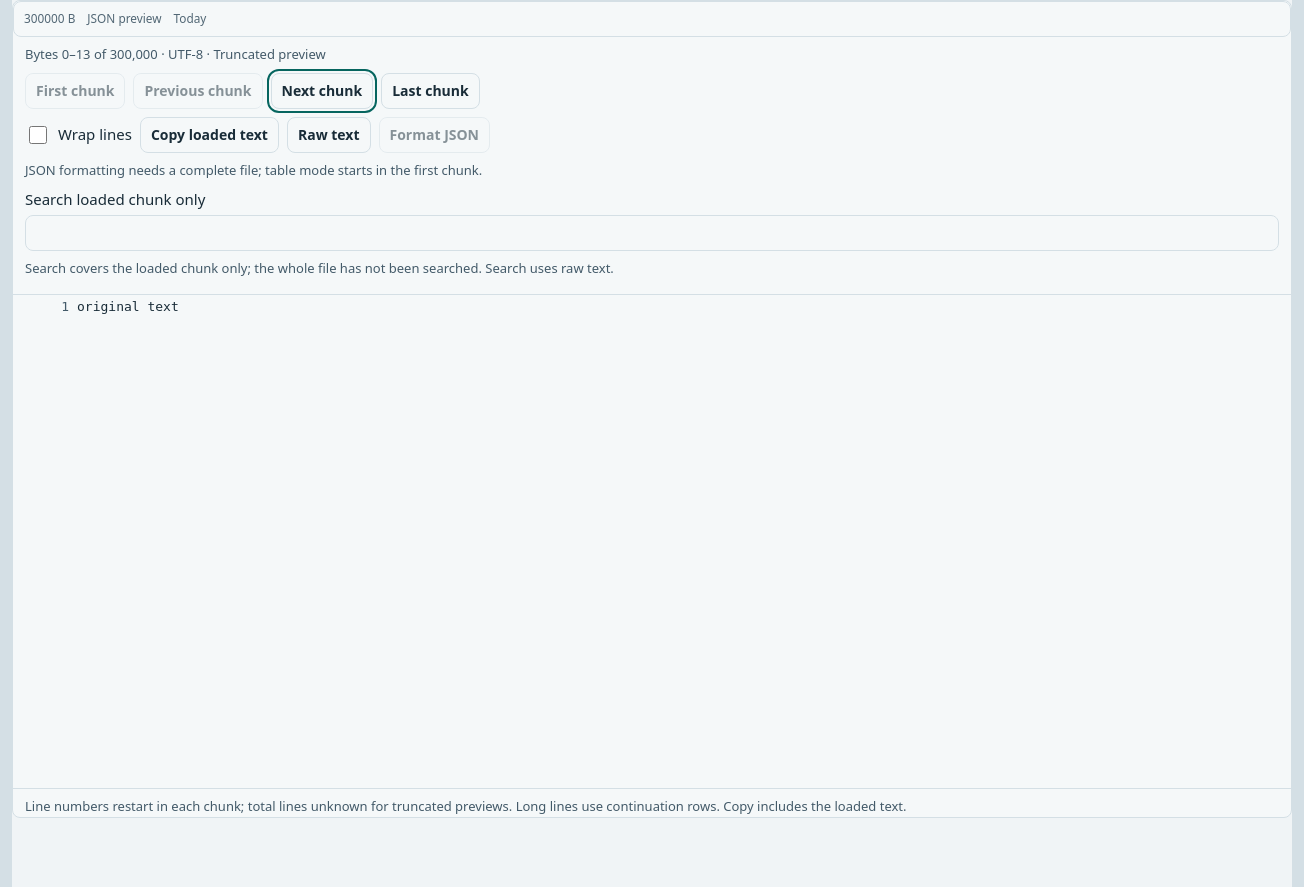
Test: keeps text, navigation and focus after a failed chunk and retries Next
Expected: the text "original text" is shown, [77,295,191,319]
Click the button "Next chunk" at (322, 90), box [270,72,373,108]
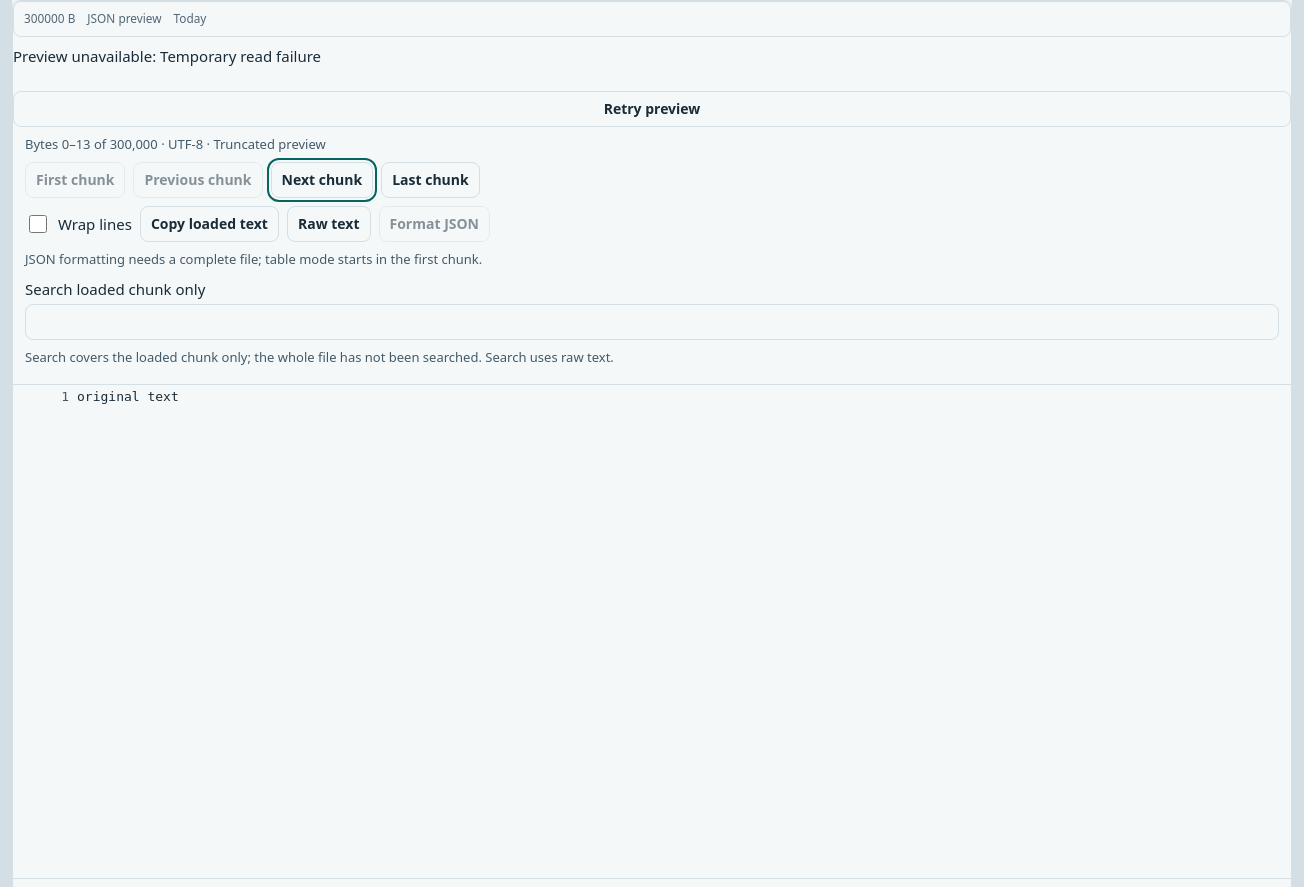
Expected: the text "original text" is shown, [77,384,191,408]
Expected: the message "Preview unavailable: Temporary read failure" is shown, [13,46,321,66]
Click the button "Next chunk" at (322, 180), box [270,162,373,198]
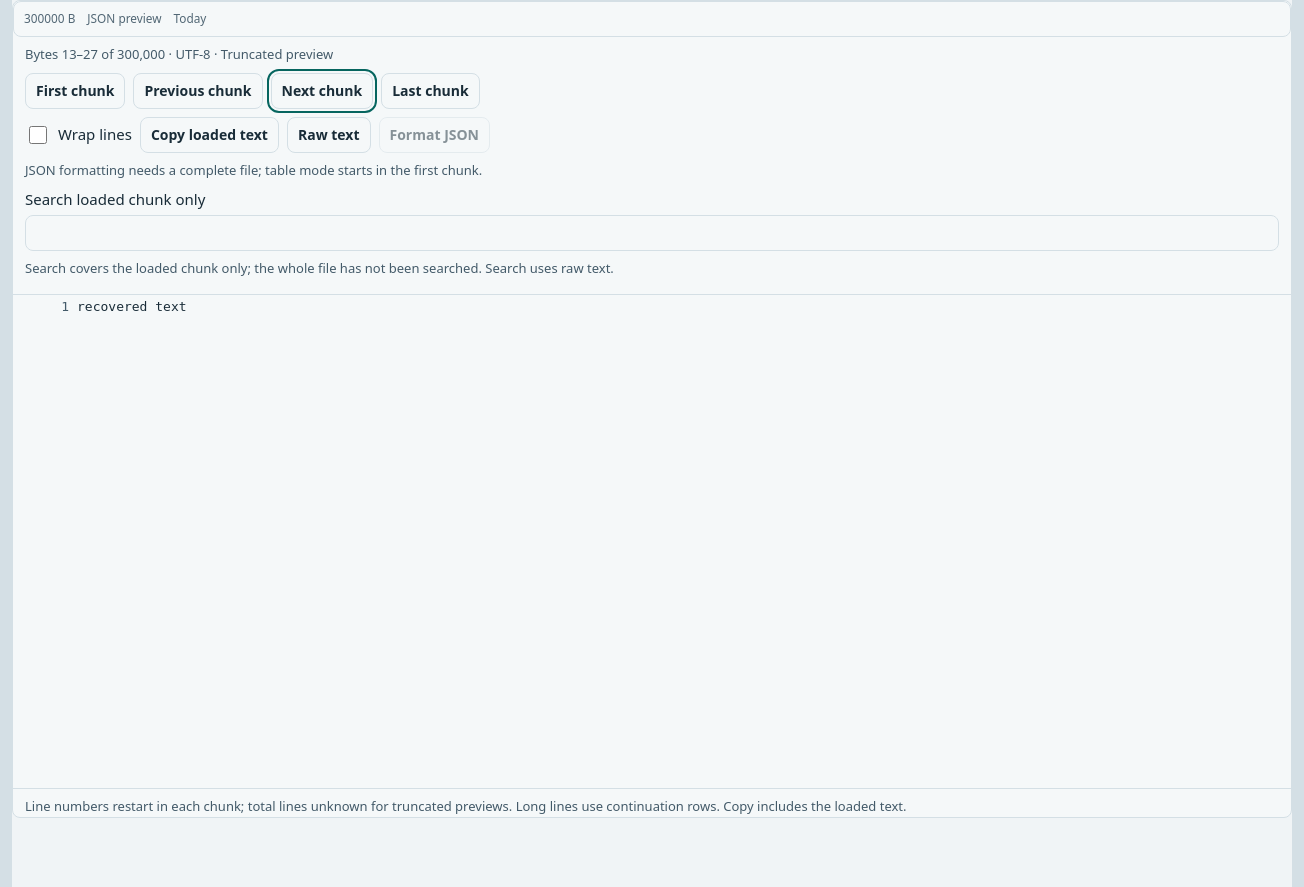
Expected: the text "recovered text" is shown, [77,295,199,319]
Expected: the message "Preview unavailable: Temporary read failure" is gone
